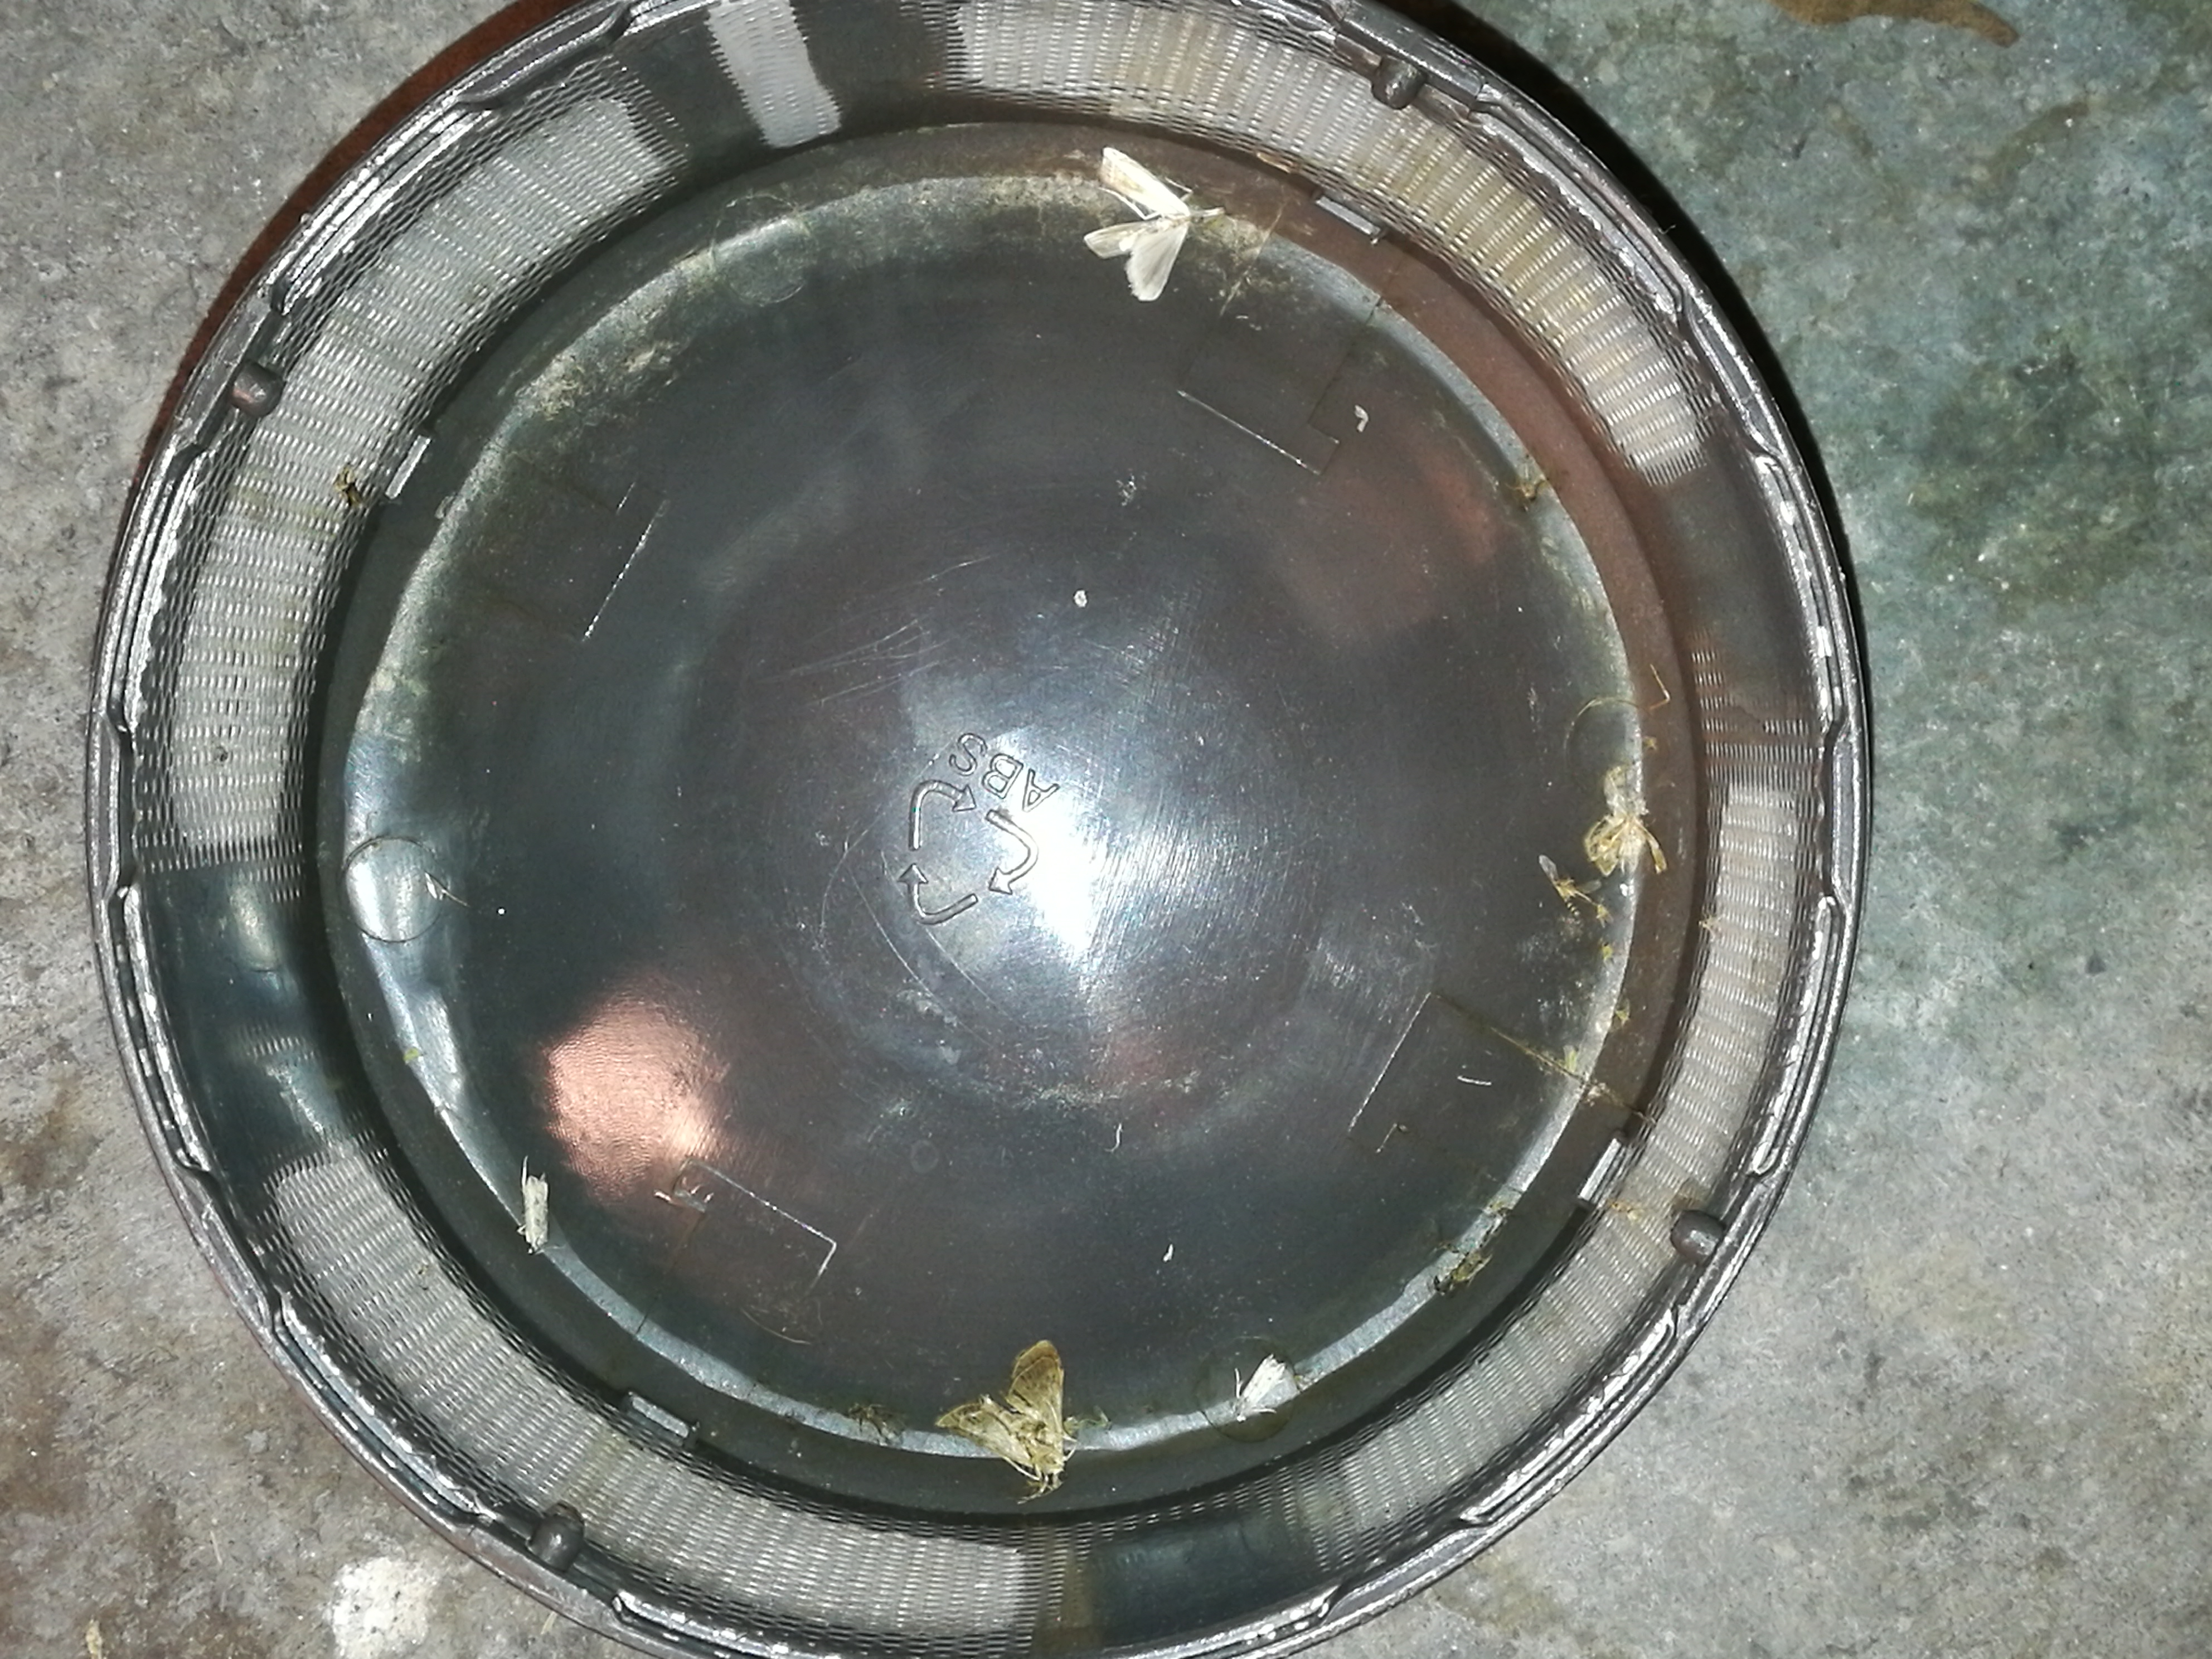mosquito: (1235, 1358, 1282, 1422), (524, 1175, 549, 1255), (1541, 854, 1569, 901)
moth: (937, 1342, 1062, 1493), (1085, 145, 1188, 298), (1590, 812, 1665, 877)
